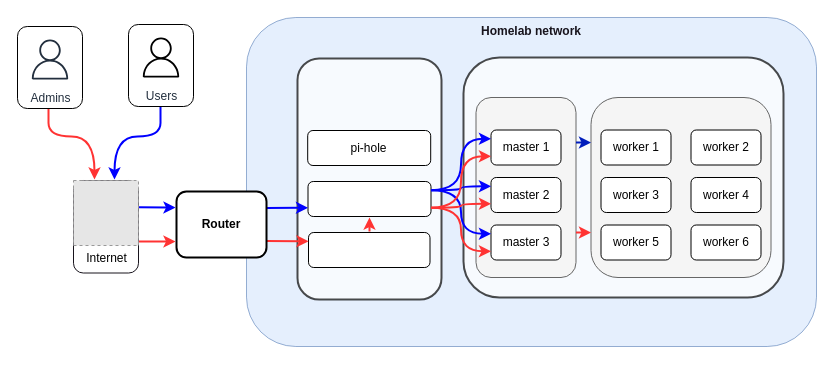
This 834x372 diagram has some shape labels left out. Grey dashed boxes stand in for pictures. The box of each missing label's shape, as (x1, y1, x2, y2) in pixels:
Gateway: (296, 57, 442, 300)
haproxy: (307, 180, 431, 216)
Kubernetes cluster: (462, 56, 784, 298)
Masters: (475, 96, 576, 278)
wireguard: (308, 232, 430, 268)
workers: (590, 96, 771, 278)
